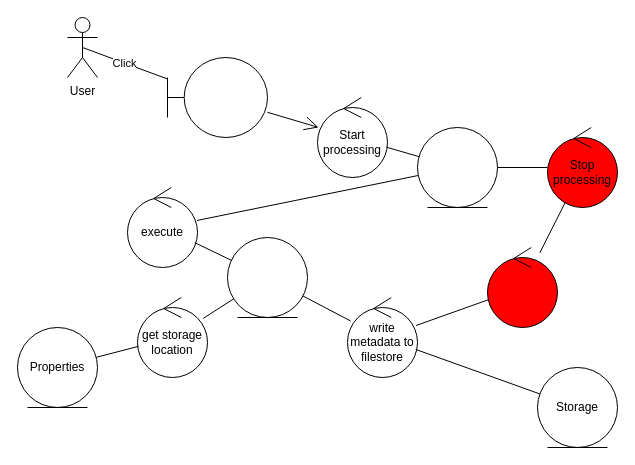
Image size: 635x465. Some labels were removed from this diagram. The centre of each missing label's shape, as x and y in pixels:
"Execute action" goes at point 217,97.
"Processor" goes at point 457,167.
"Storage unavailable" goes at point 522,287.
"Task" goes at point 267,277.
